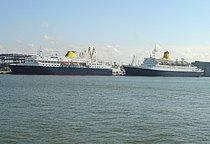Ship: (10, 50, 127, 82), (118, 44, 210, 81)
